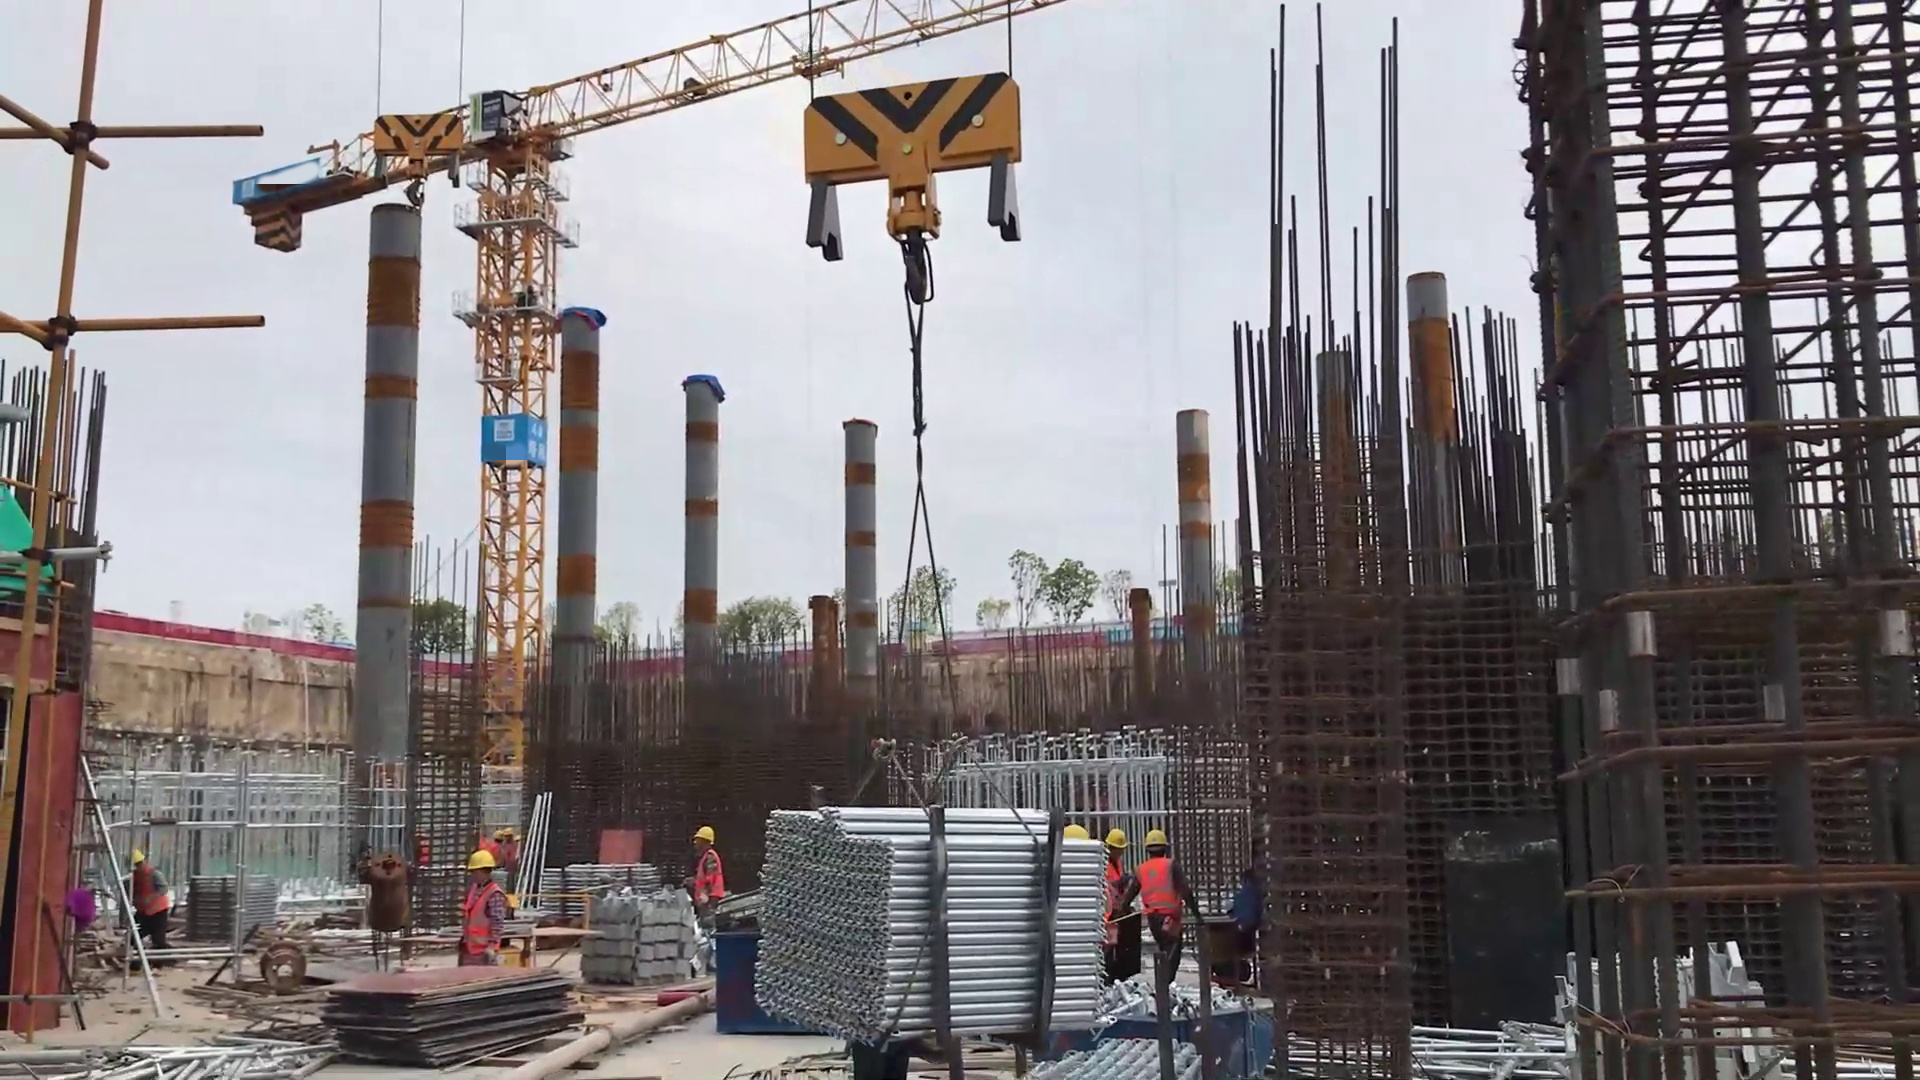board: (317, 953, 574, 1058)
helmet: (1124, 822, 1189, 860), (694, 820, 742, 858), (458, 837, 500, 874)
hook: (765, 57, 1061, 331), (367, 89, 488, 185)
hopper: (1056, 981, 1294, 1080)
person: (1133, 822, 1215, 964), (456, 849, 506, 953), (688, 819, 724, 919)
scaffold: (752, 780, 1106, 1064)
vest: (1129, 843, 1190, 924), (462, 868, 511, 962), (693, 847, 725, 907)
